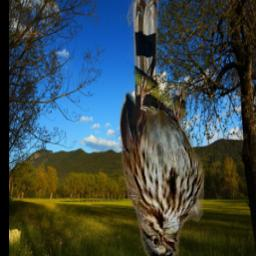Sparrow: (121, 0, 205, 256)
